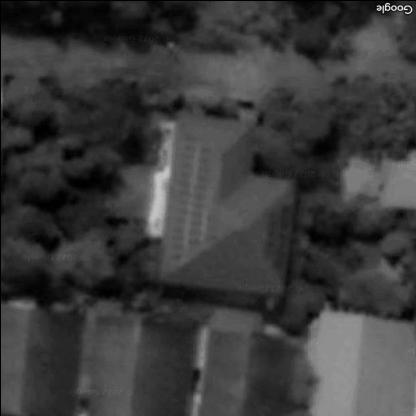solar-pv-panel: (165, 149, 216, 251), (263, 207, 287, 266)
